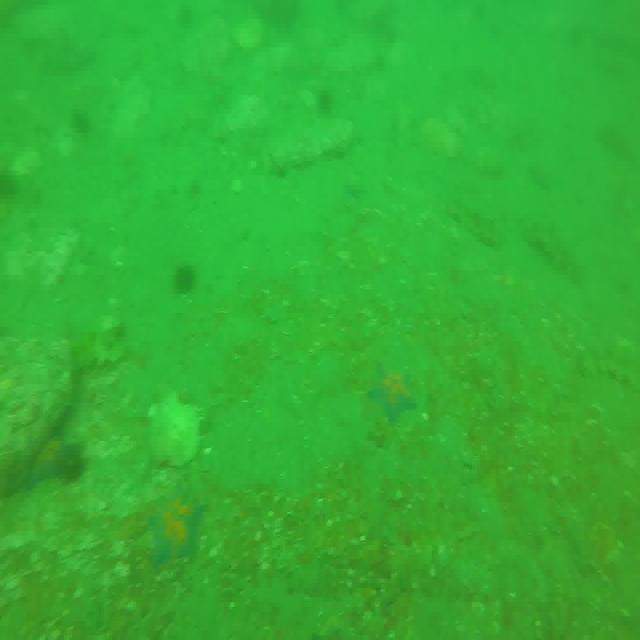echinus: (57, 446, 88, 481), (170, 264, 195, 300), (72, 111, 92, 133)
holothurian: (525, 219, 581, 281), (452, 195, 501, 248), (581, 341, 640, 380)
starfish: (146, 478, 206, 569), (372, 362, 419, 415), (346, 175, 370, 202)
